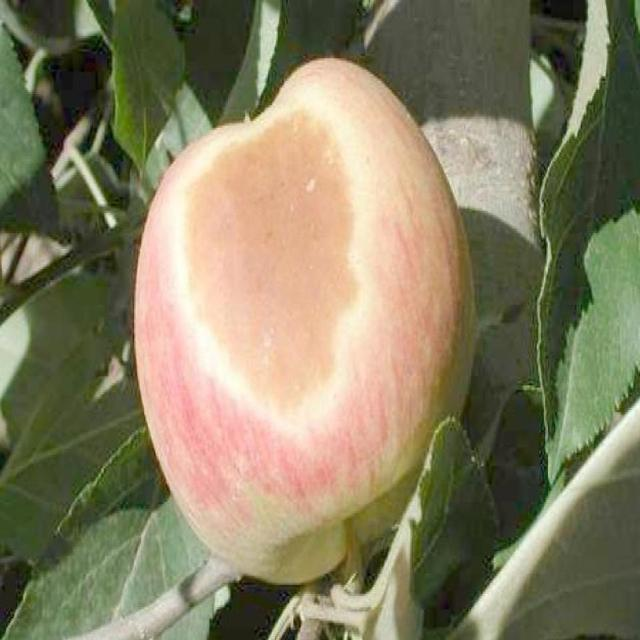Sunscald Fruit: (118, 52, 251, 291)
